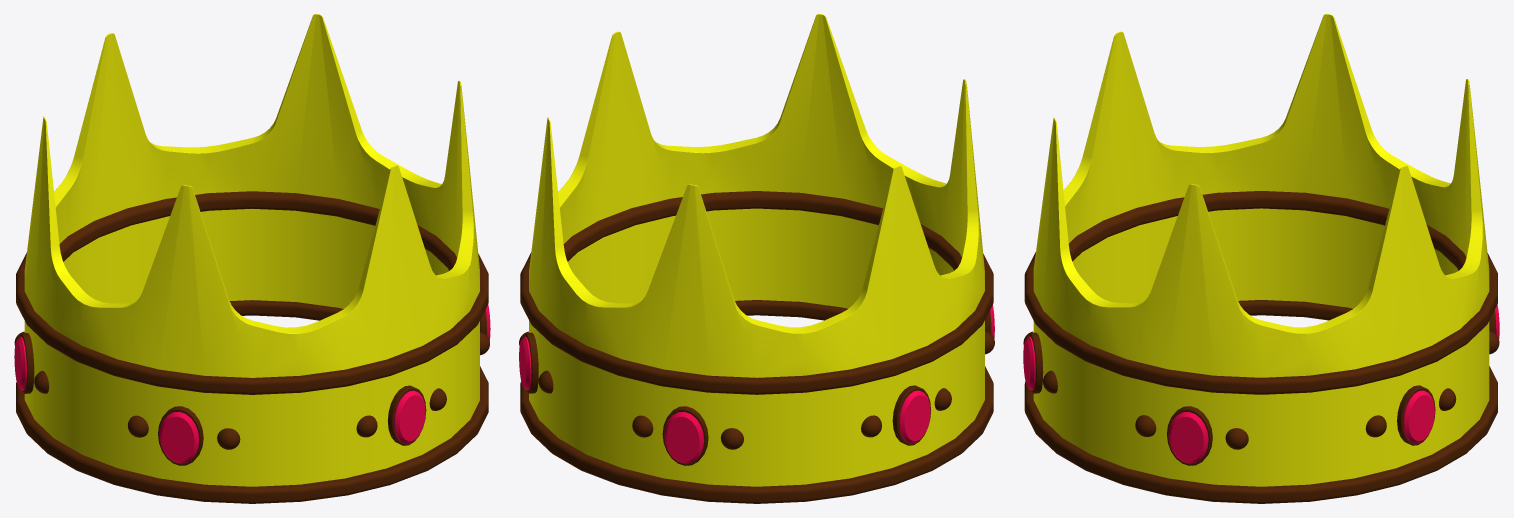
The model's file is sm_crown.fbx.
3 renders of one model, left to right at view 1: azimuth 30°, elevation 25°; view 2: azimuth 150°, elevation 25°; view 3: azimuth 270°, elevation 25°, orthographic.
Visible parts, largest first — view 1: crownpiece_low (×2), jewels_low (×2), decor_low; view 2: crownpiece_low (×2), jewels_low (×2), decor_low; view 3: crownpiece_low (×2), jewels_low (×2), decor_low.
Part boxes in pixels (x1,y1,x2,y2): crownpiece_low (×2): (16,14,488,503); jewels_low (×2): (14,304,490,465); decor_low: (14,331,489,449); crownpiece_low (×2): (520,14,993,503); jewels_low (×2): (519,305,994,465); decor_low: (519,331,994,449); crownpiece_low (×2): (1024,14,1497,503); jewels_low (×2): (1023,304,1499,465); decor_low: (1023,331,1499,449).
Bounding box in the file's own units: 30.75 × 21.77 × 30.78.
